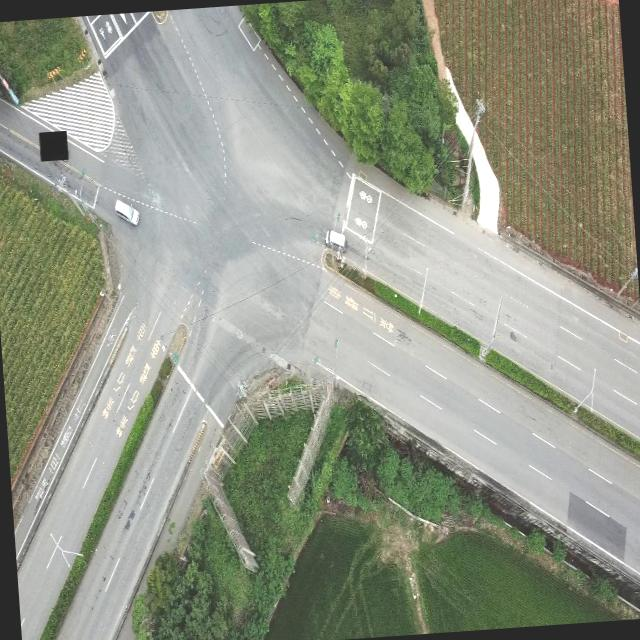car: (114, 196, 138, 228), (324, 226, 346, 252)
